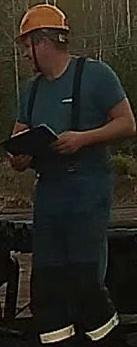helmet: (14, 2, 69, 48)
